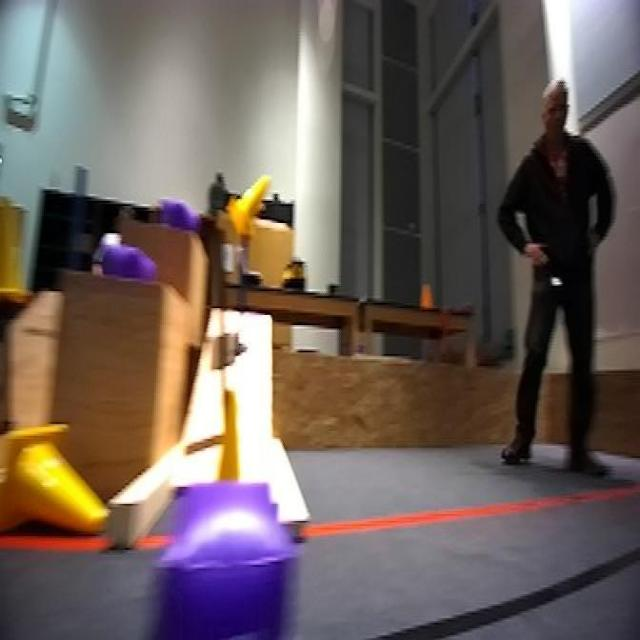frc_cone: (7, 416, 119, 554), (196, 386, 271, 534), (0, 180, 33, 311), (224, 169, 274, 240)
frc_cube: (137, 481, 308, 640), (97, 237, 162, 286), (158, 194, 193, 232)
